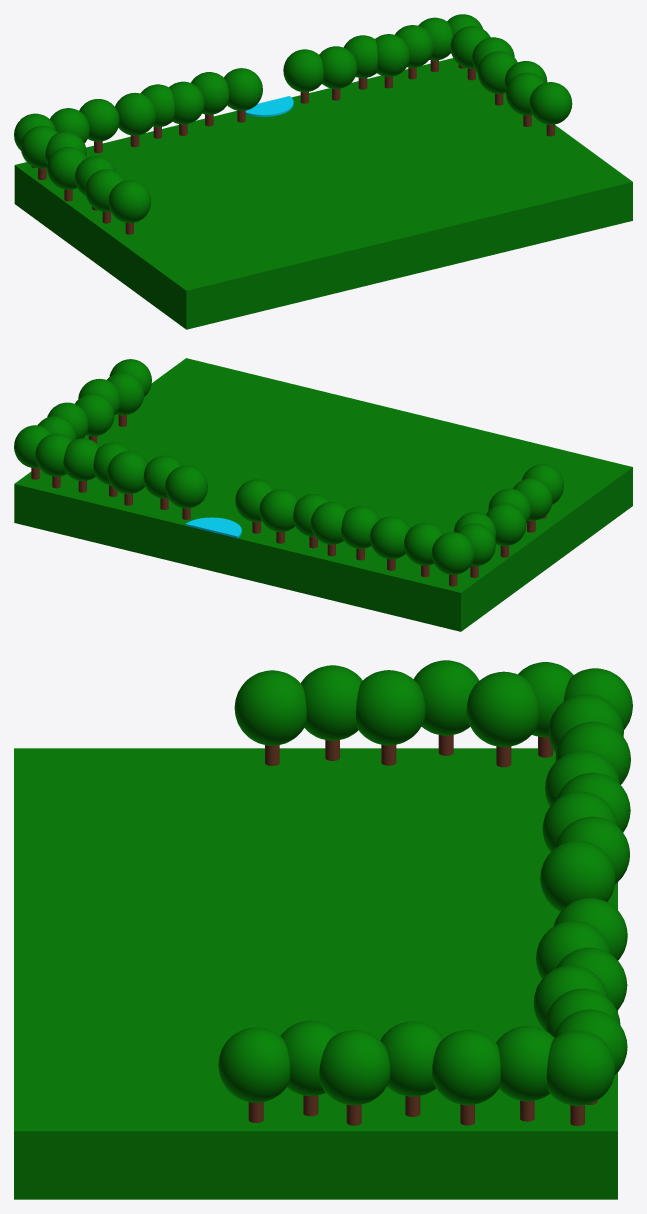
The model's file is World 1 Background.fbx.
3 renders of one model, top to bottom at view 1: azimuth 30°, elevation 25°; view 2: azimuth 150°, elevation 25°; view 3: azimuth 270°, elevation 25°, orthographic. The views are drawn at different scales.
Visible parts, largest first — view 1: Ground, Leaves029, Leaves026, Leaves007, Leaves002, Leaves009, Leaves005, Leaves004, Leaves003, Leaves015, Leaves001, Leaves023 (+16 smaller); view 2: Ground, Leaves007, Leaves011, Leaves006, Leaves004, Leaves008, Leaves015, Leaves002, Leaves000, Leaves019, Leaves031, Leaves030 (+17 smaller); view 3: Ground, Leaves029, Leaves026, Leaves013, Leaves024, Leaves027, Leaves022, Leaves020, Leaves009, Leaves028, Leaves015, Leaves021 (+16 smaller).
Boxes of the visible parts, bbox=[...] form: Ground: bbox=[14, 58, 632, 329]; Leaves029: bbox=[108, 180, 151, 223]; Leaves026: bbox=[529, 82, 572, 124]; Leaves007: bbox=[283, 49, 323, 92]; Leaves002: bbox=[115, 92, 156, 135]; Leaves009: bbox=[224, 68, 262, 110]; Leaves005: bbox=[319, 46, 357, 88]; Leaves004: bbox=[79, 99, 119, 141]; Leaves003: bbox=[375, 34, 410, 76]; Leaves015: bbox=[47, 147, 86, 189]; Leaves001: bbox=[169, 81, 204, 124]; Leaves023: bbox=[477, 51, 517, 93]; Ground: bbox=[14, 358, 632, 631]; Leaves007: bbox=[165, 465, 207, 508]; Leaves011: bbox=[431, 532, 474, 574]; Leaves006: bbox=[107, 451, 147, 494]; Leaves004: bbox=[370, 516, 410, 559]; Leaves008: bbox=[259, 489, 298, 531]; Leaves015: bbox=[486, 503, 526, 546]; Leaves002: bbox=[341, 506, 380, 548]; Leaves000: bbox=[310, 502, 348, 544]; Leaves019: bbox=[63, 438, 99, 481]; Leaves031: bbox=[404, 522, 443, 565]; Leaves030: bbox=[35, 433, 71, 476]; Ground: bbox=[14, 748, 617, 1199]; Leaves029: bbox=[234, 670, 306, 745]; Leaves026: bbox=[218, 1027, 290, 1102]; Leaves013: bbox=[466, 671, 538, 747]; Leaves024: bbox=[319, 1030, 390, 1105]; Leaves027: bbox=[356, 670, 425, 745]; Leaves022: bbox=[432, 1030, 500, 1105]; Leaves020: bbox=[546, 1030, 615, 1105]; Leaves009: bbox=[540, 840, 615, 911]; Leaves028: bbox=[301, 665, 362, 740]; Leaves015: bbox=[413, 660, 479, 735]; Leaves021: bbox=[496, 1026, 554, 1101].
Size of the model in its own units: 126 by 23 by 81.99.
